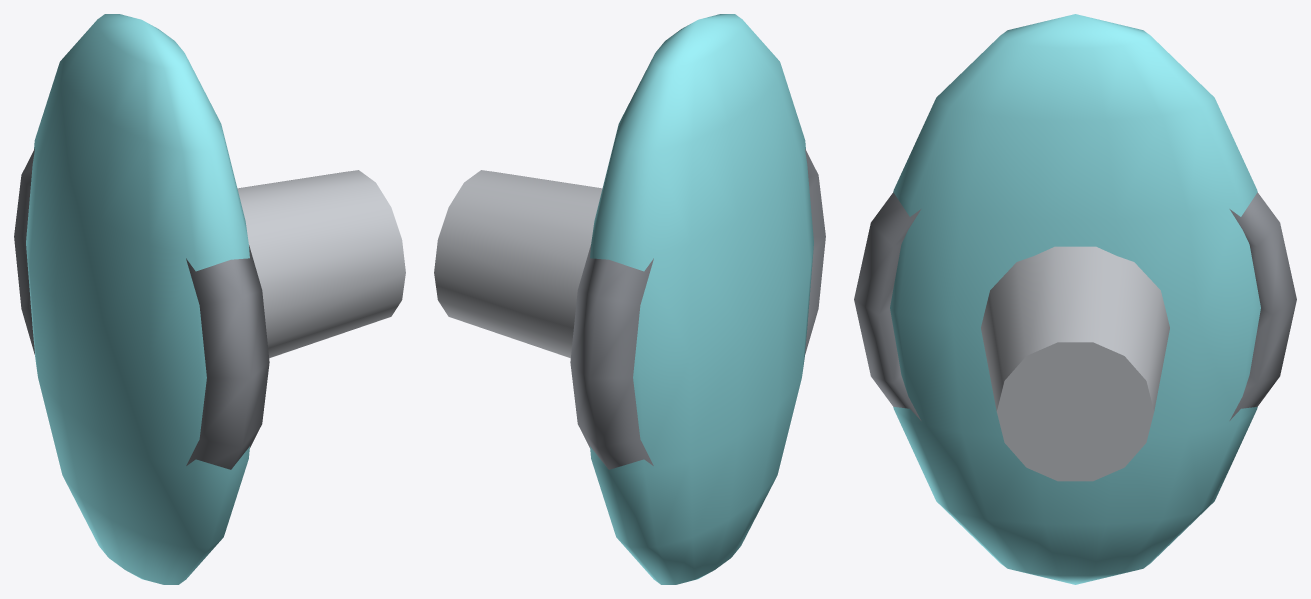
Rendered from ShieldWall.fbx.
The picture shows the model from 3 angles, left to right: view 1: azimuth 30°, elevation 25°; view 2: azimuth 150°, elevation 25°; view 3: azimuth 270°, elevation 25°; orthographic projection. The views are drawn at different scales.
Parts seen in each view (by area): view 1: ShieldWall; view 2: ShieldWall; view 3: ShieldWall.
Part boxes in pixels (x1=…): ShieldWall: x1=14, y1=14, x2=405, y2=584; ShieldWall: x1=434, y1=14, x2=825, y2=584; ShieldWall: x1=854, y1=14, x2=1296, y2=584.
Size of the model in its own units: 0.348 by 0.64 by 0.45.
